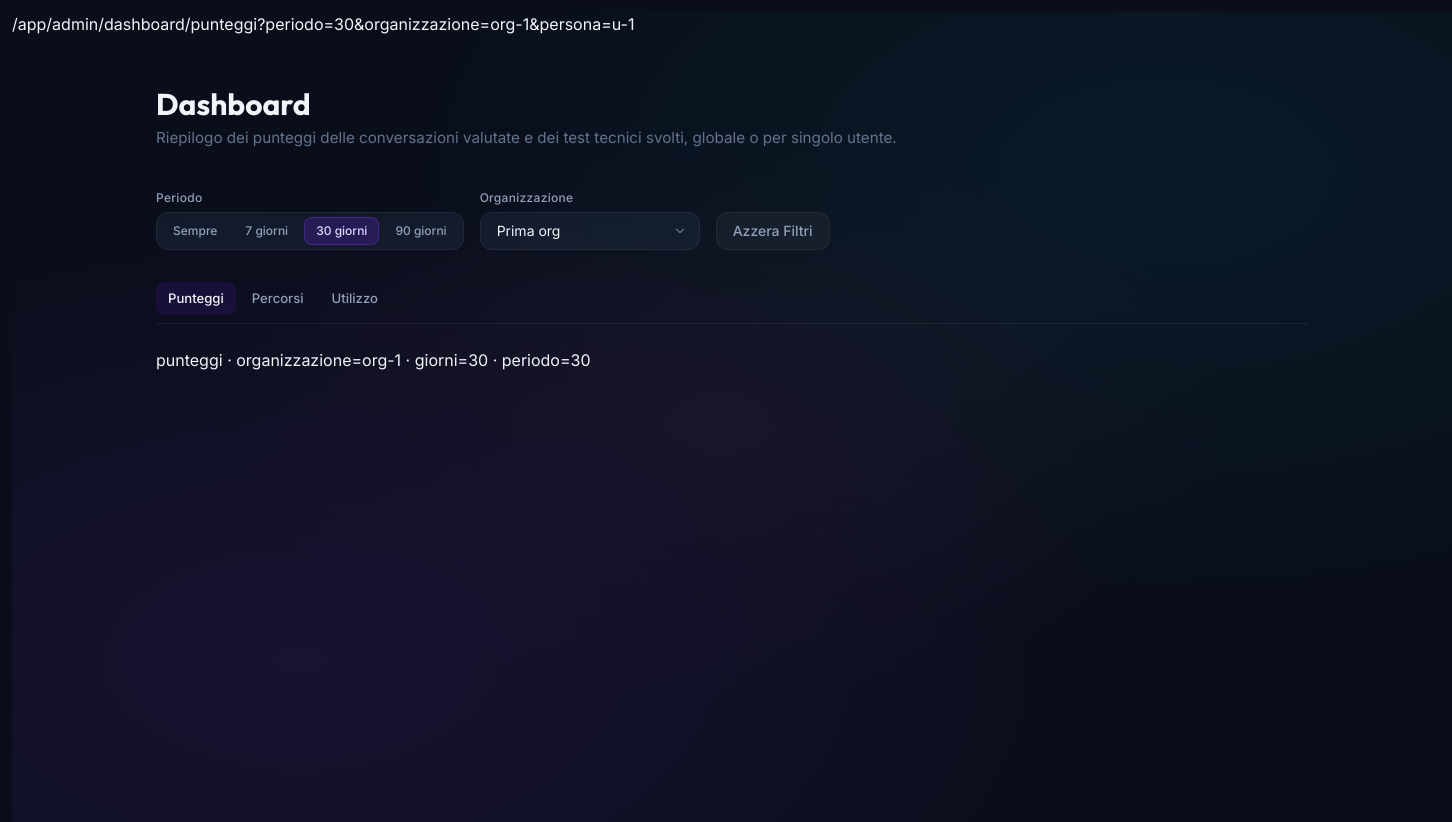
i filtri del guscio › azzera periodo, organizzazione e persona
The image size is (1452, 822).
Click the button "Azzera Filtri".
click(773, 231)  # box top-left (716, 212), bottom-right (830, 250)
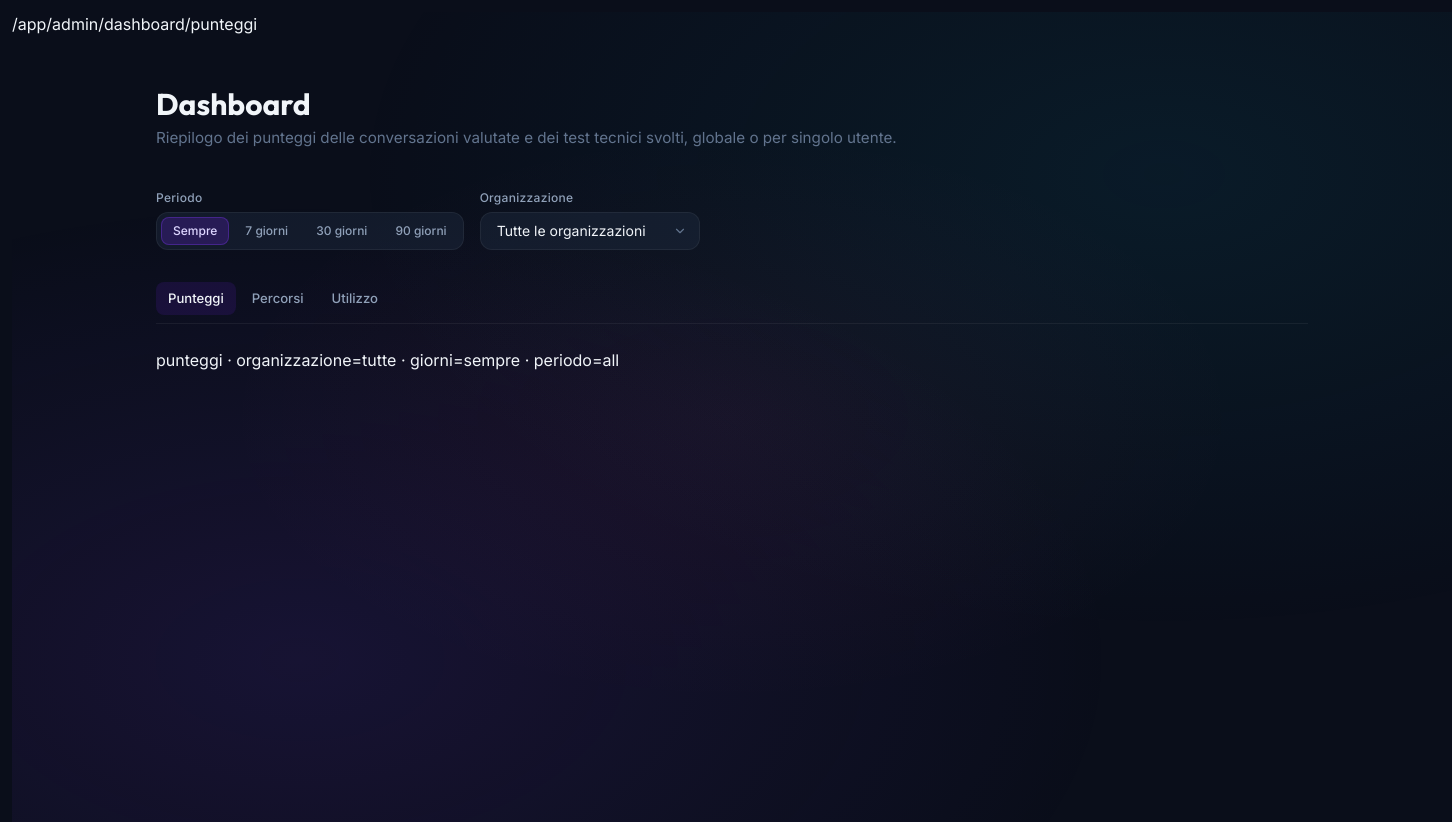
Expected: the element with test id "indirizzo" no longer shows "periodo"
Expected: the element with test id "indirizzo" no longer shows "organizzazione"
Expected: the text with test id "indirizzo" no longer shows "persona"
